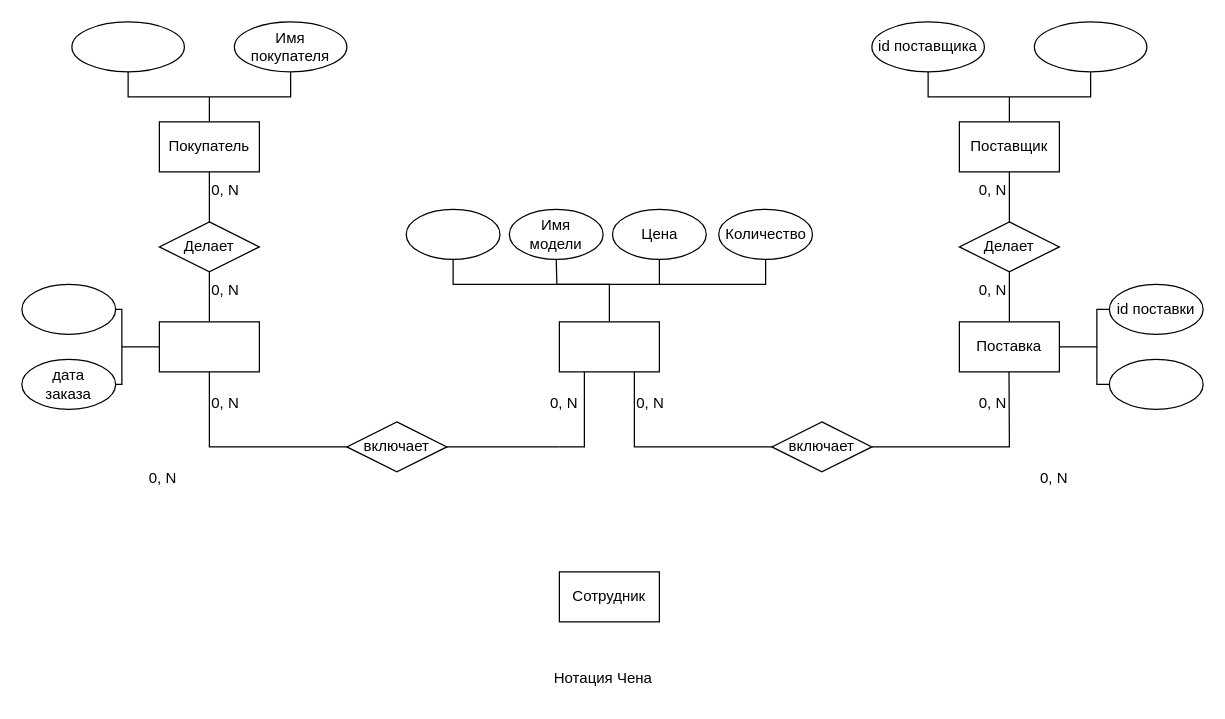
Image size: 1225x719. Some labels were removed from this diagram. Here are the shapes that lost their labels. From the top down, the box of each, then its label:
(71, 21, 184, 72): id покупателя
(1033, 21, 1147, 72): Имя поставщика
(405, 208, 500, 259): id товара
(21, 283, 116, 334): id заказа
(158, 321, 259, 372): Заказ
(558, 321, 659, 372): Товар
(1108, 358, 1203, 409): дата поставки
